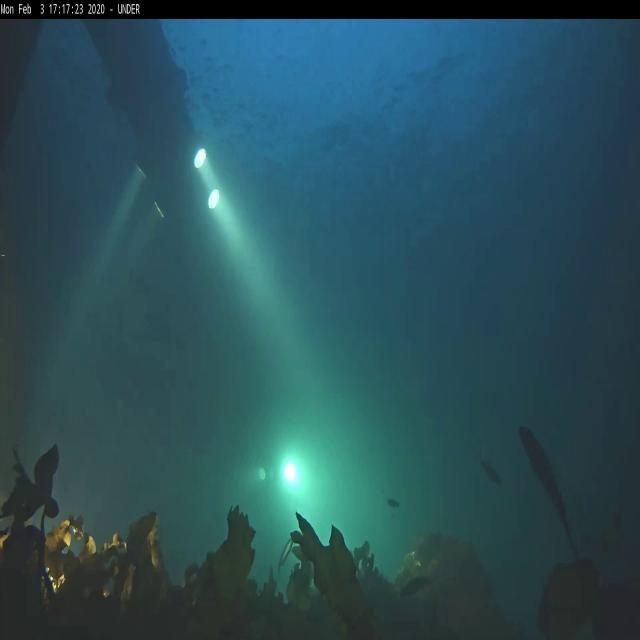fish: (518, 424, 574, 550), (478, 458, 505, 490), (278, 538, 296, 574), (402, 576, 429, 598), (384, 496, 402, 509)
